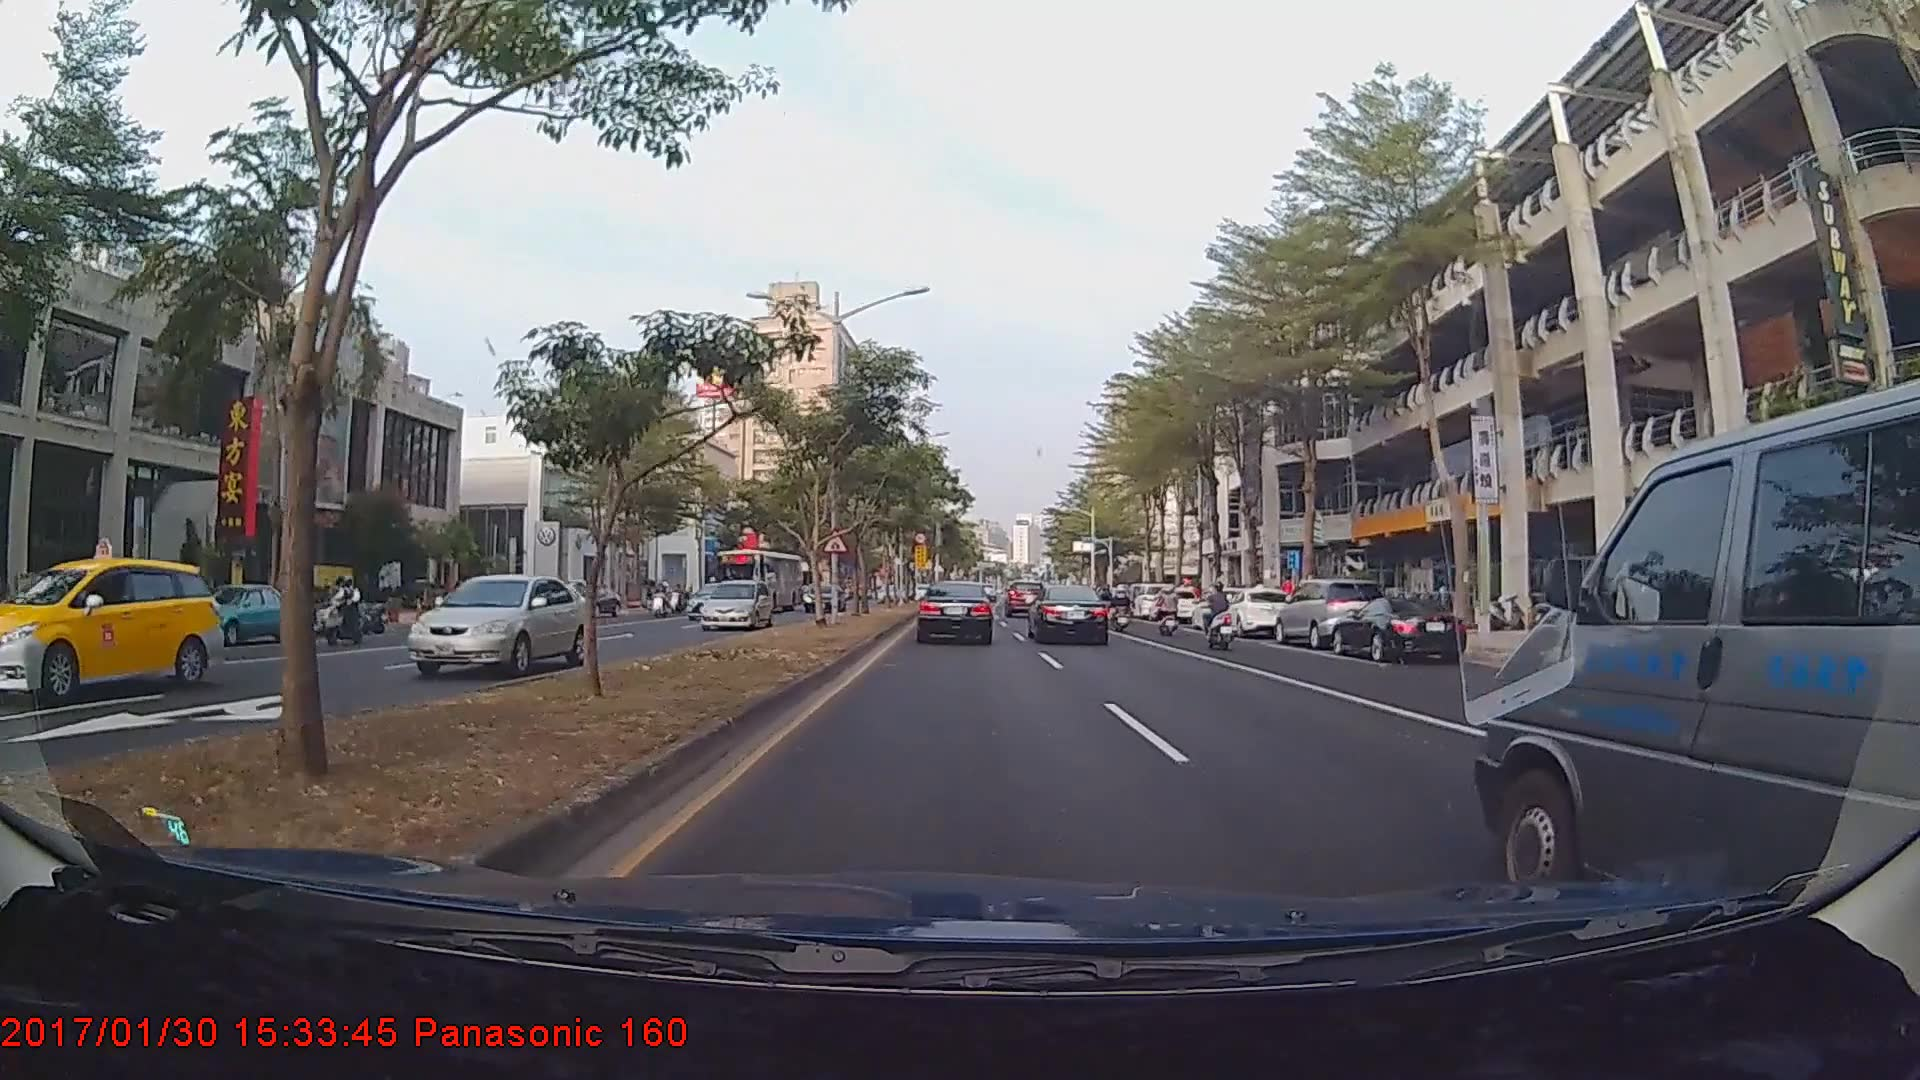rider: (316, 572, 373, 651), (1198, 581, 1242, 655), (1149, 582, 1185, 642), (1109, 584, 1133, 635)
vehicle: (1490, 414, 1916, 888), (0, 558, 224, 701), (401, 572, 587, 675), (1328, 594, 1468, 662), (1276, 576, 1390, 651), (712, 548, 803, 616), (203, 583, 302, 641), (1027, 582, 1111, 645), (915, 579, 996, 645), (695, 578, 775, 630), (1216, 584, 1291, 636), (1186, 585, 1248, 629), (682, 581, 739, 618), (1004, 576, 1048, 614), (1151, 587, 1198, 622), (801, 581, 847, 615)
